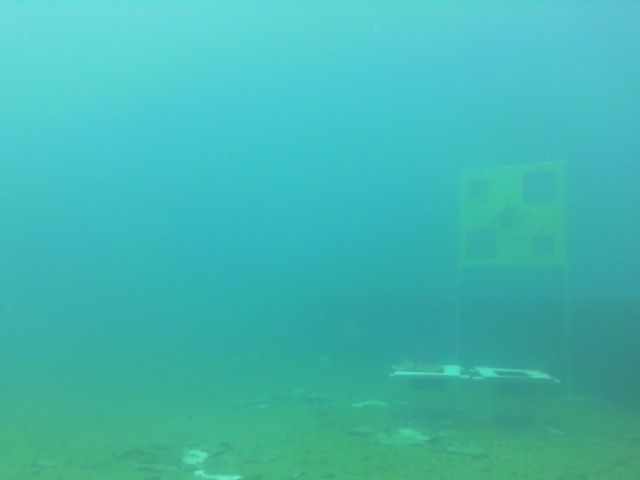torpedo_hole: (523, 173, 554, 199), (469, 230, 497, 258), (533, 235, 554, 255), (467, 178, 488, 198)
torpedo_target: (456, 161, 571, 270)
